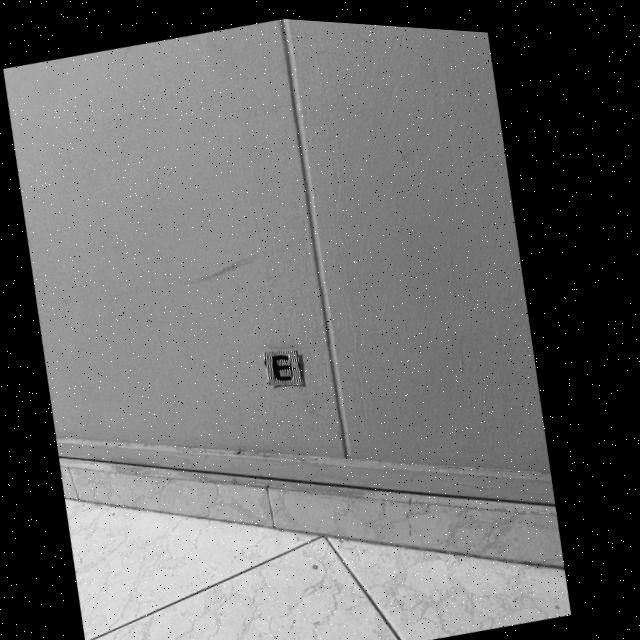E: (280, 350, 300, 376)
